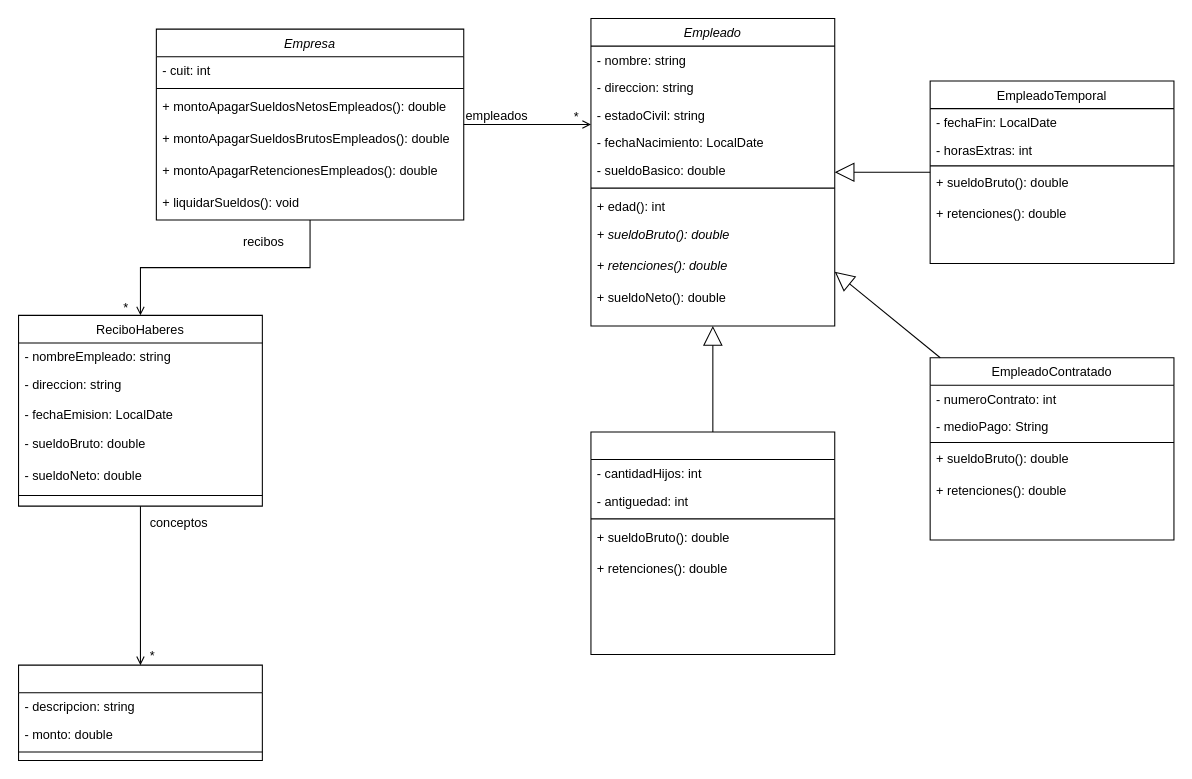
Some shapes in this 1192 by 779 pixel diagram are drawn without their labels. The shapes that lost their labels are listed below. From the top down, each one's box as (x1, y1, x2, y2) in pixels, then its label:
(590, 431, 835, 655): EmpleadoPermanente
(17, 664, 262, 761): Concepto
